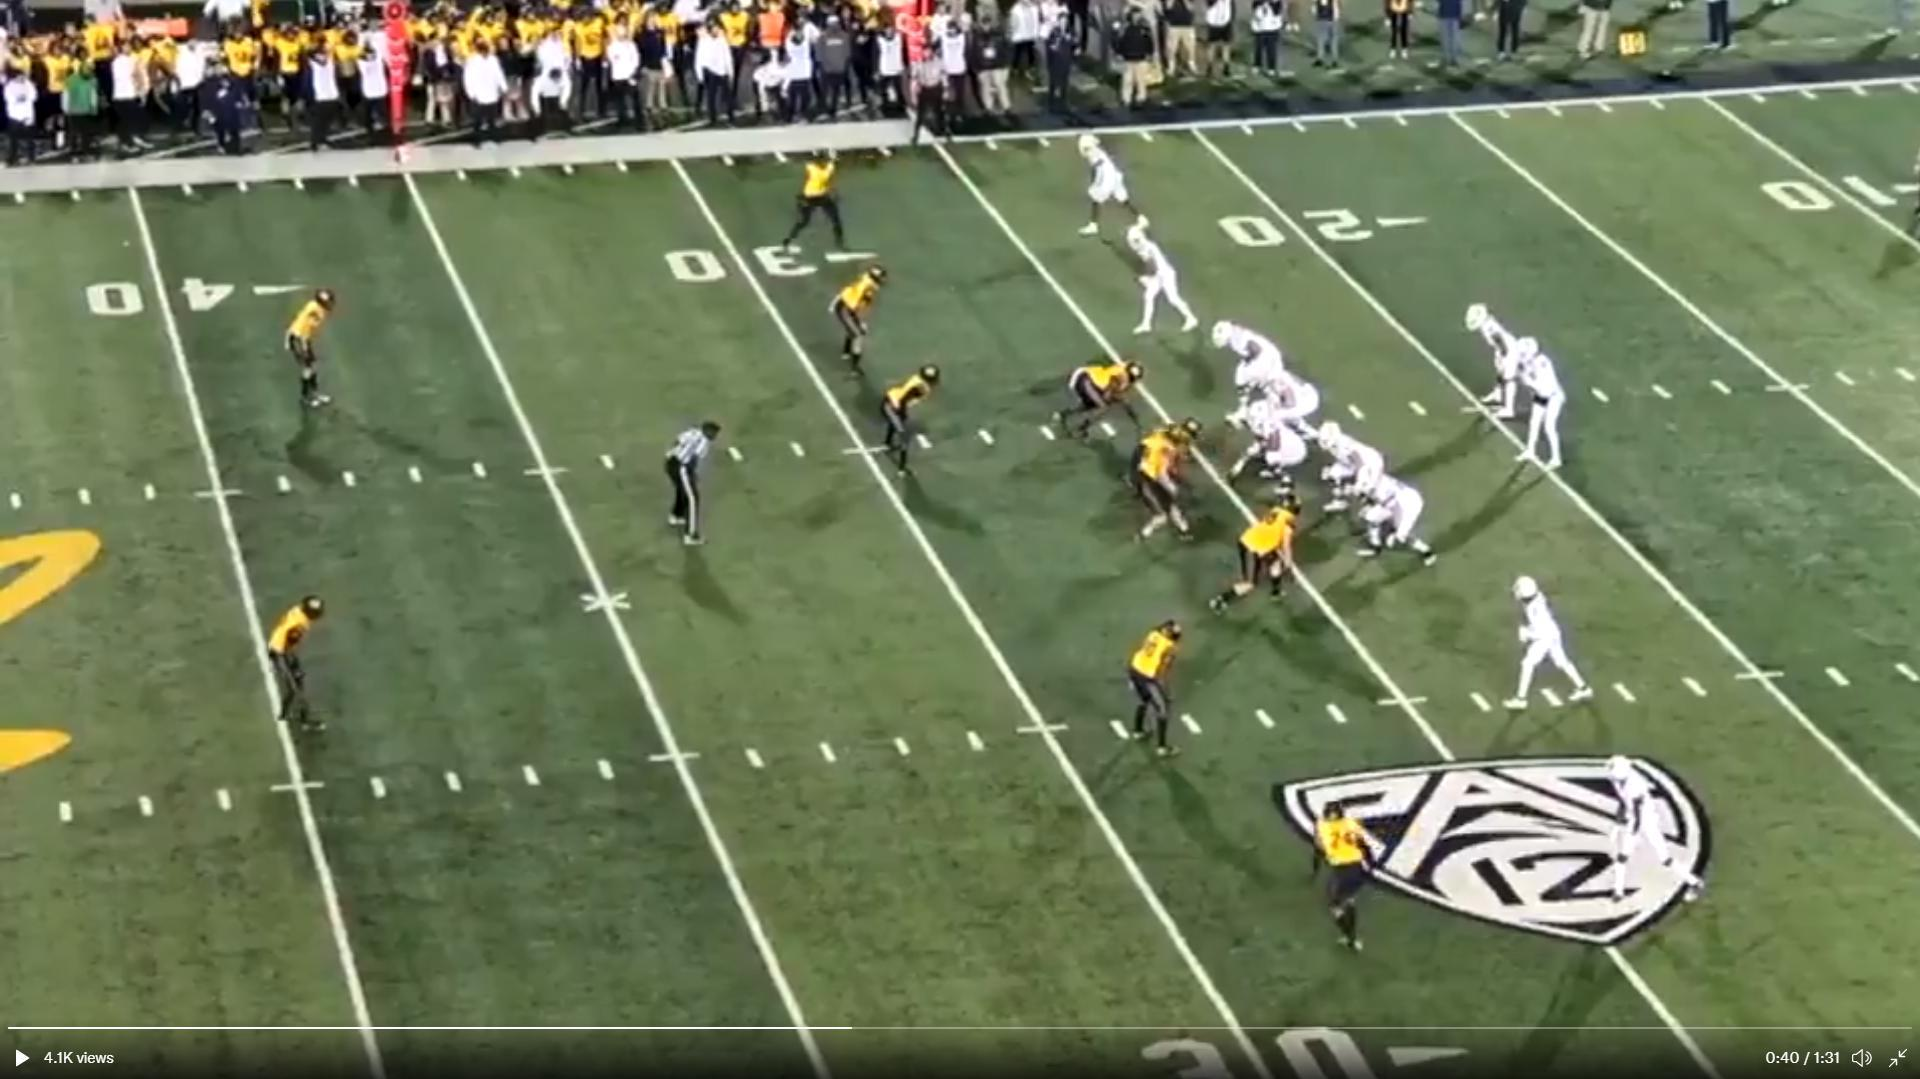player: (1602, 755, 1702, 908), (1505, 574, 1604, 716), (258, 586, 329, 740), (1115, 612, 1184, 763), (1214, 499, 1305, 613), (1349, 463, 1441, 571), (1310, 800, 1376, 949), (1123, 228, 1206, 345), (1044, 355, 1144, 449), (1070, 130, 1153, 243), (283, 283, 347, 423), (1235, 395, 1320, 497), (777, 147, 853, 259), (872, 356, 938, 483), (1515, 340, 1575, 478), (1315, 420, 1395, 520), (830, 258, 890, 386), (1134, 429, 1197, 549), (1215, 317, 1295, 405), (1467, 303, 1522, 417), (1125, 413, 1208, 487), (1240, 362, 1325, 431)
ref: (659, 411, 724, 567), (910, 39, 955, 153)
